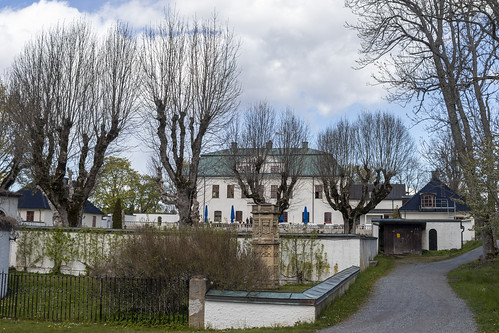building: (201, 144, 469, 251), (8, 182, 96, 234)
road: (322, 249, 492, 331)
sky: (30, 1, 483, 151)
tree: (366, 2, 499, 263), (5, 8, 136, 234), (140, 15, 229, 227), (314, 109, 411, 231), (228, 99, 317, 230)
vegetation: (53, 235, 255, 333)
